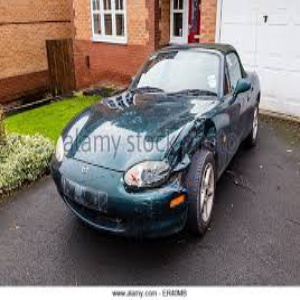bumper: (134, 188, 191, 235)
